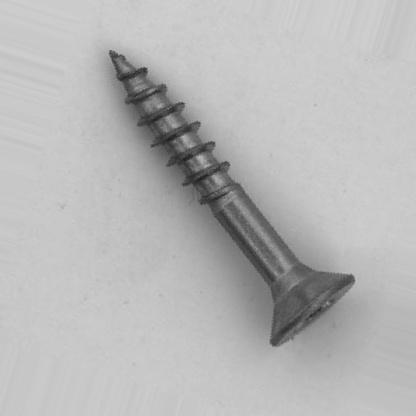metal: (107, 48, 355, 346)
